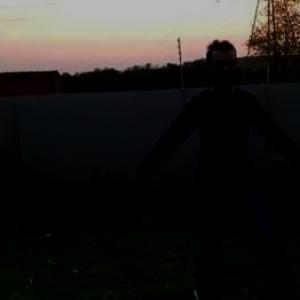land: (152, 61, 280, 247)
